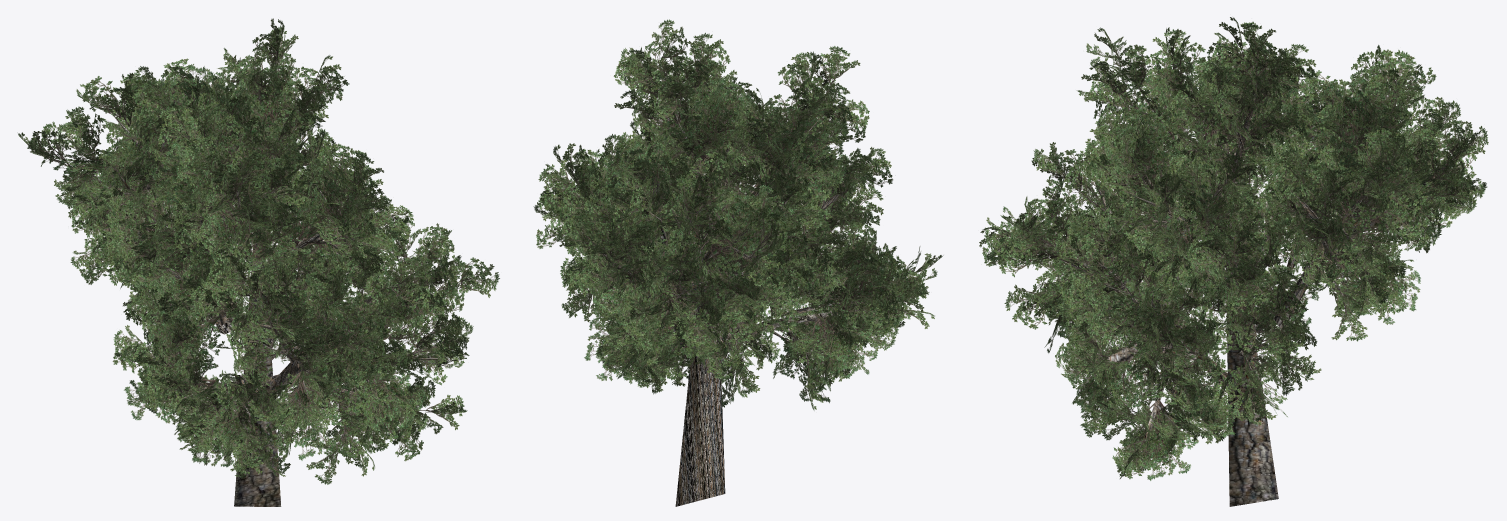
File: shade_tree.glb
3 renders of one model, left to right at view 1: azimuth 30°, elevation 25°; view 2: azimuth 150°, elevation 25°; view 3: azimuth 270°, elevation 25°, orthographic. The views are drawn at different scales.
Visible parts, largest first — view 1: 13_1_w; view 2: 13_1_w; view 3: 13_1_w.
Boxes of the visible parts, left/top/right/bottom form: 13_1_w: left=18, top=18, right=499, bottom=506; 13_1_w: left=533, top=19, right=943, bottom=506; 13_1_w: left=979, top=17, right=1488, bottom=506.
Size of the model in its own units: 9.09 by 11.03 by 10.5.
Materials: 5 (5 with a texture image).
